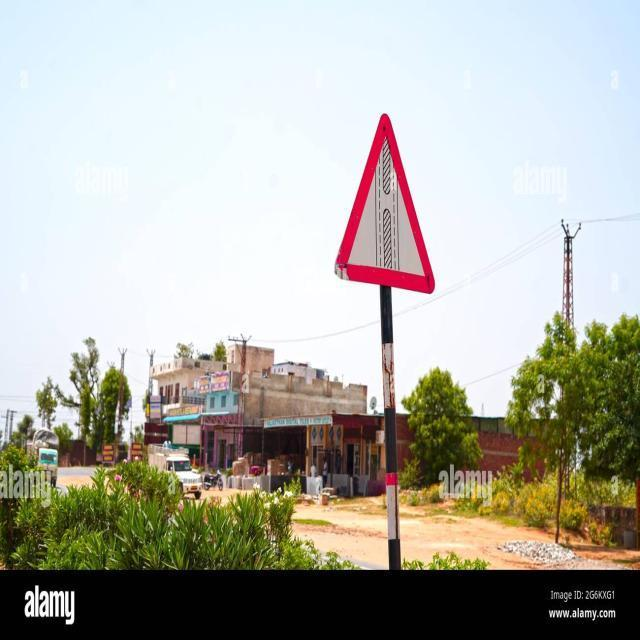gap in median: (329, 112, 438, 299)
